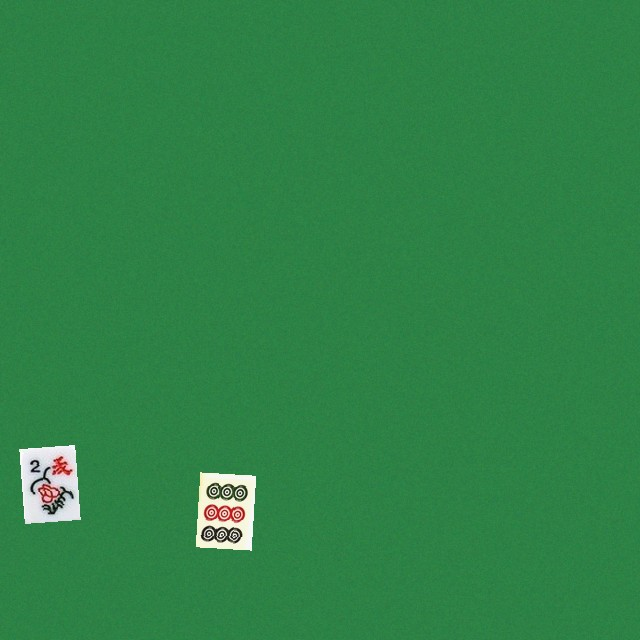tile: (19, 445, 75, 520), (195, 472, 251, 547)
